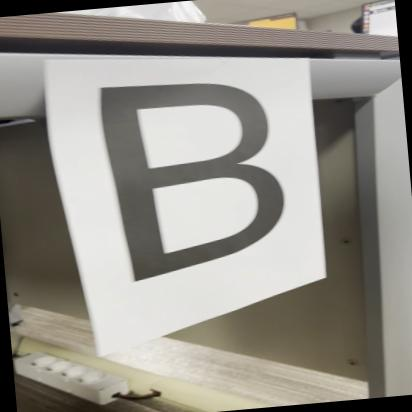seat: (61, 58, 344, 291)
